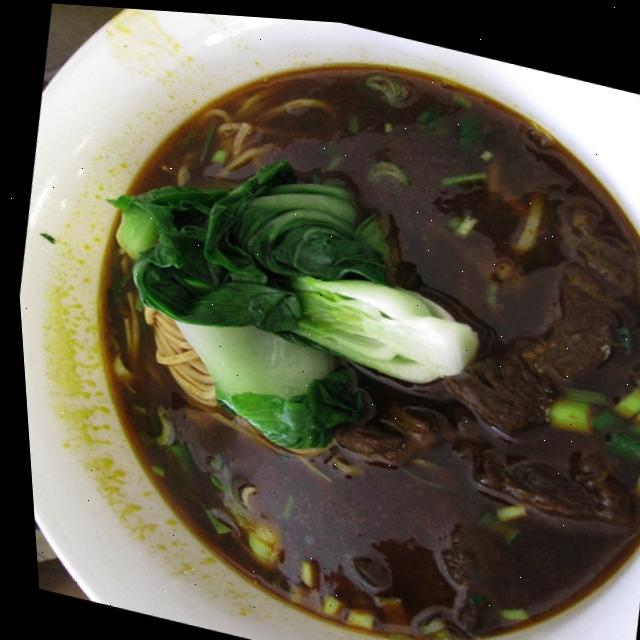面条主食: (28, 1, 640, 640)
